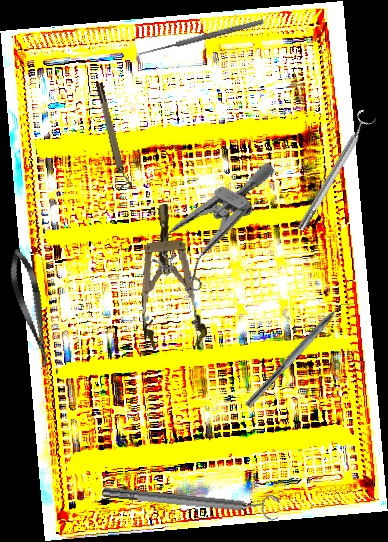Chopper: (244, 291, 359, 416)
Fixation Ring: (290, 108, 379, 235), (101, 476, 281, 524), (93, 80, 134, 192)
Hook Surgical: (134, 17, 267, 64)
Micro Scissor: (4, 246, 58, 371)
Speculum: (142, 135, 278, 307), (132, 201, 209, 354)
